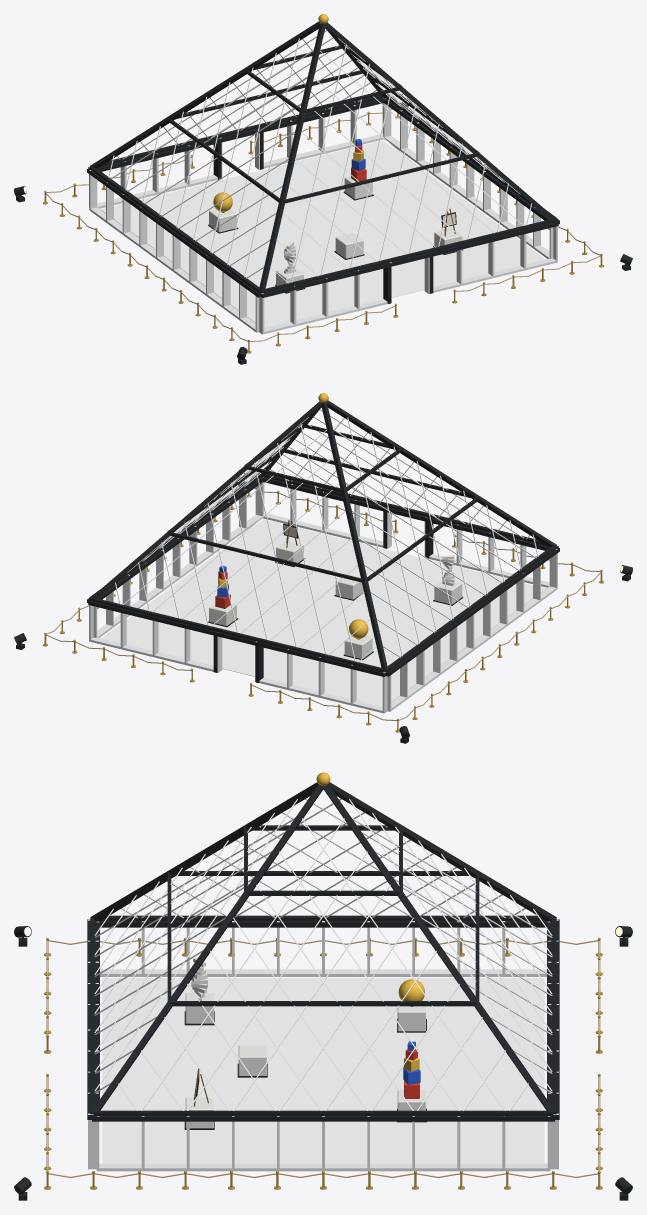
Rendered from tf-gallery.glb.
3 renders of one model, top to bottom at view 1: azimuth 30°, elevation 25°; view 2: azimuth 150°, elevation 25°; view 3: azimuth 270°, elevation 25°, orthographic. The views are drawn at different scales.
Parts seen in each view (by area): view 1: tf-gallery; view 2: tf-gallery; view 3: tf-gallery.
Boxes of the visible parts, x1,y1,x2,y2 form: tf-gallery: (14,14,632,364); tf-gallery: (14,393,632,743); tf-gallery: (14,772,632,1200).
Size of the model in its own units: 35 by 18.65 by 35.01.
